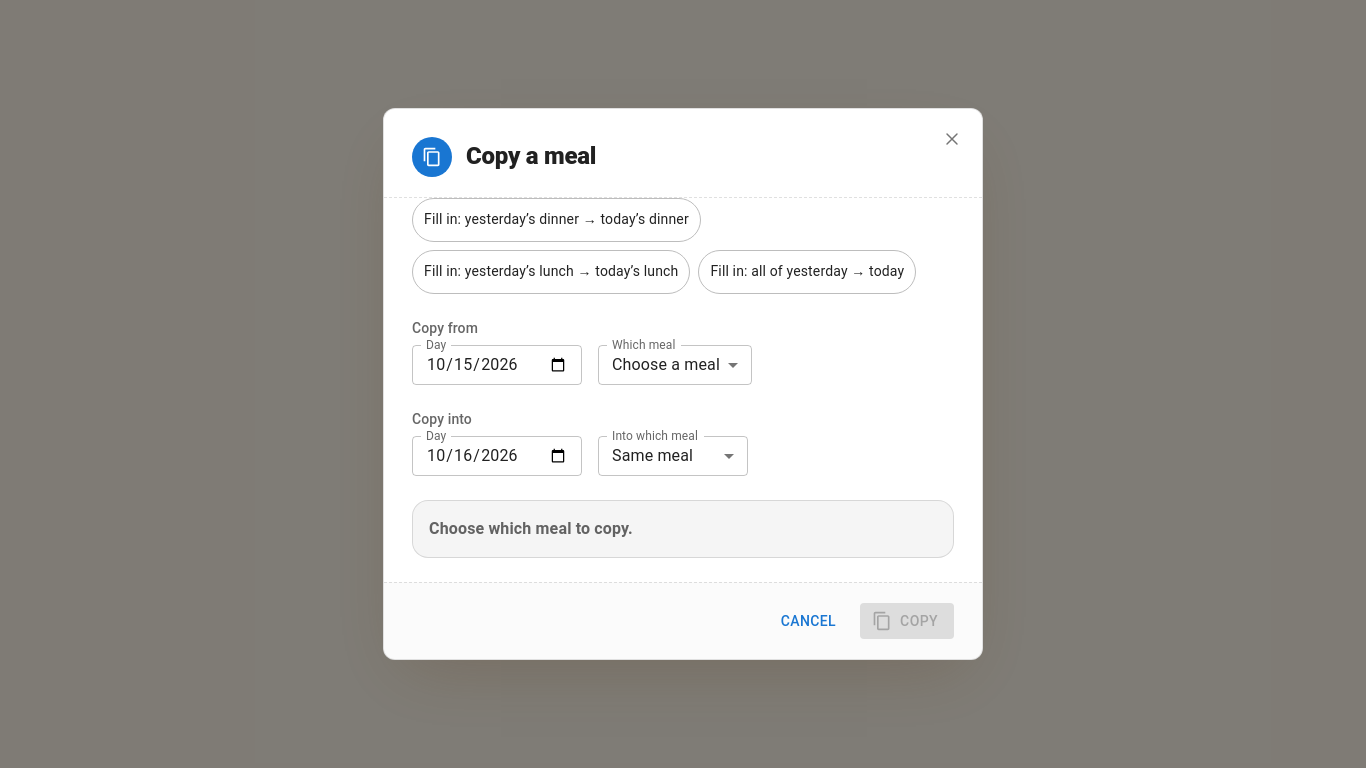
Test: Copy a meal — no copy without a chosen meal › an empty source meal says so, and Copy stays off
The width and height of the screenshot is (1366, 768).
Press the mouse on the dropdown named "Which meal" at coordinates (666, 365), box [612,355,720,374]
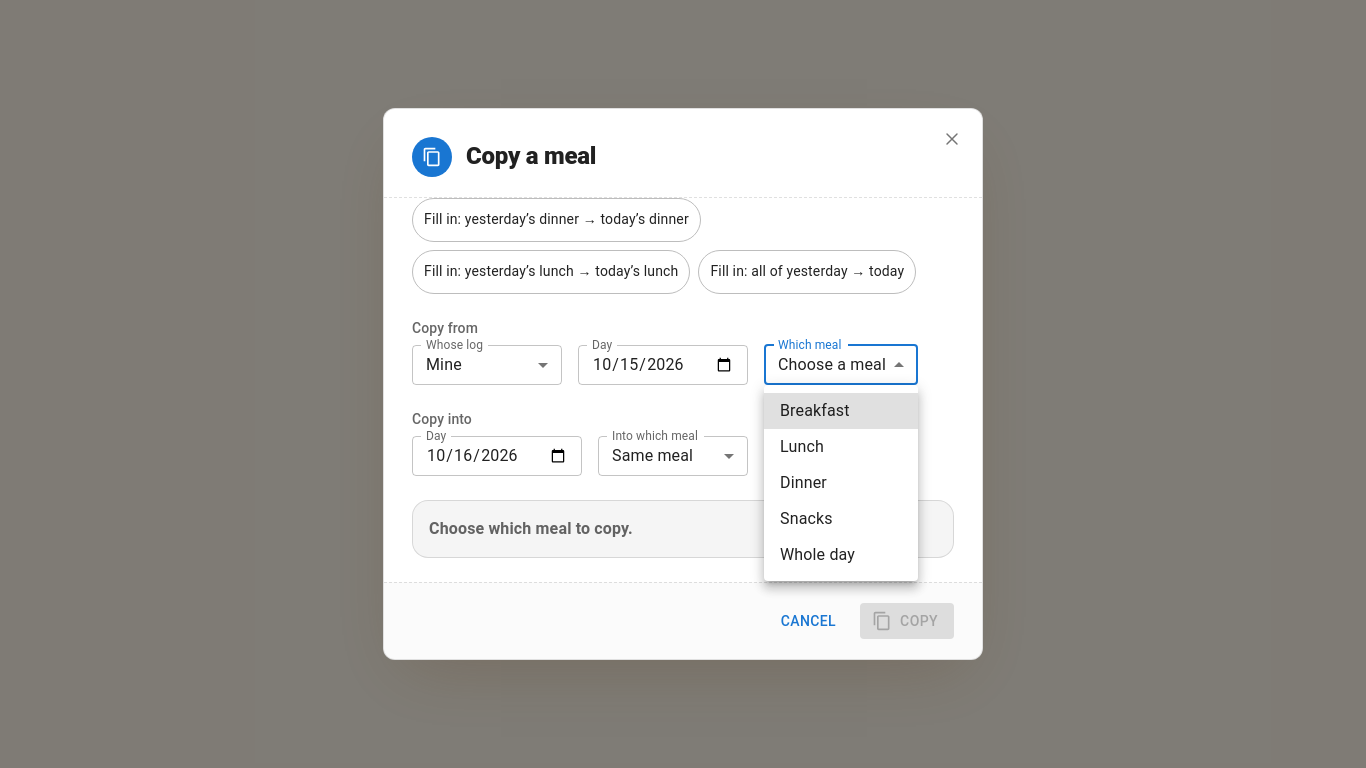
Click the option "Dinner".
click(803, 482)  # box [780,473,827,492]
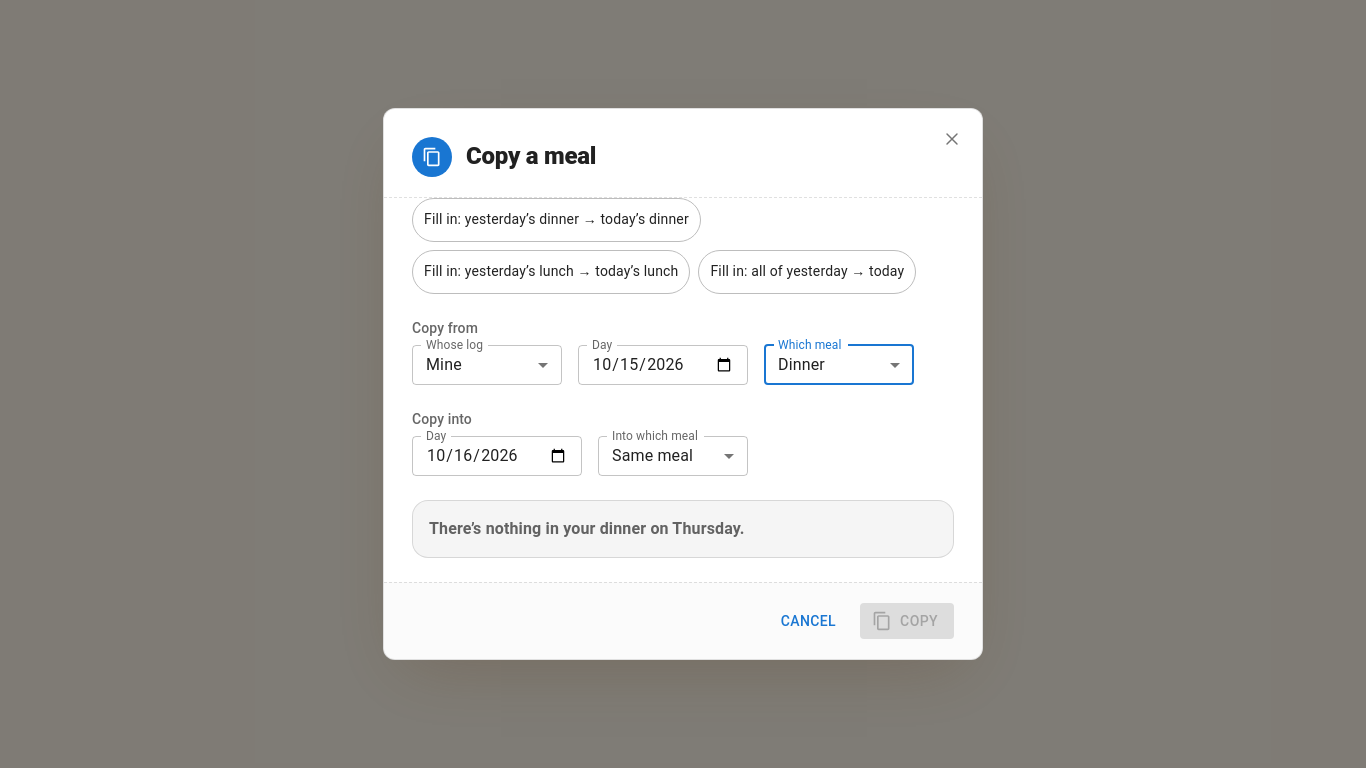
Expected: the button "Copy" is disabled, [860,603,954,639]
Expected: the message with test id "copy-summary" reads "There’s nothing in your dinner on Thursday.", [429,519,744,538]
